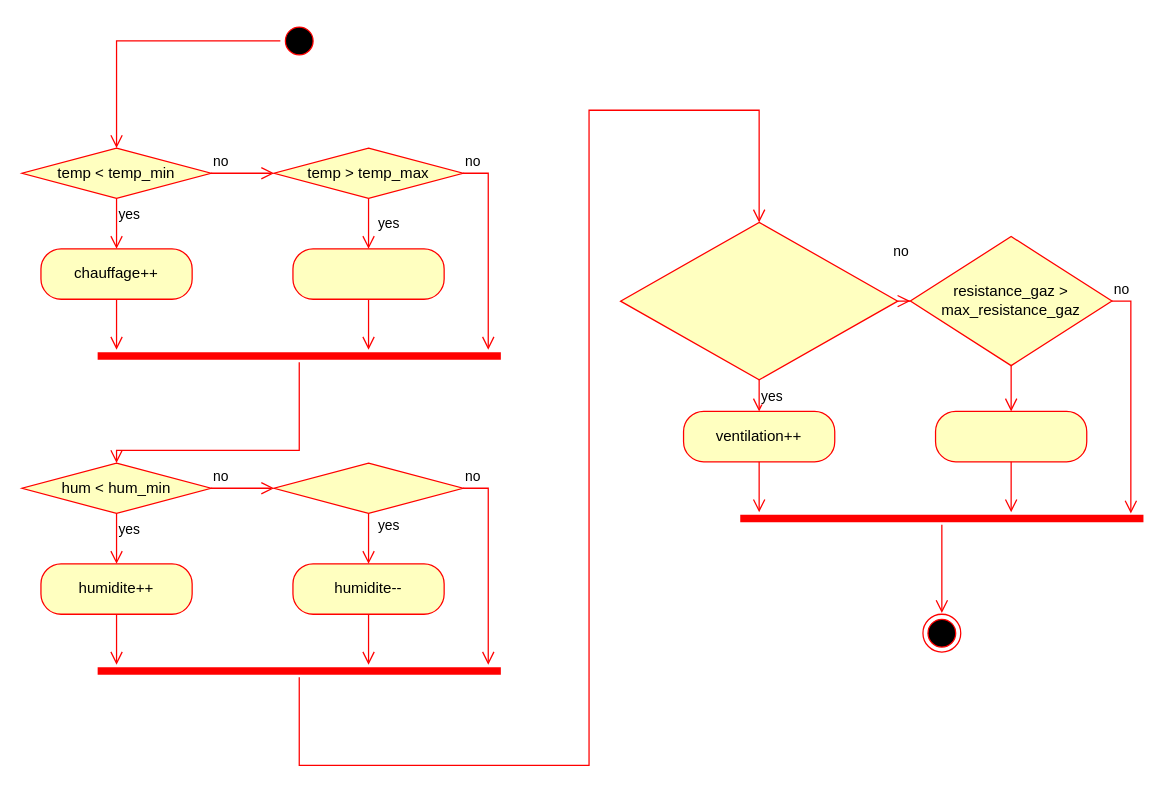
The diagram is 1169 pixels wide and 800 high, and some of its shapes have lost their labels. Each missing label, with the box of its shape:
Chauffage--: (292, 248, 444, 299)
hum > hum_max: (273, 462, 463, 513)
resistance_gaz < min_resistance_gaz OR IAQ > max_IAQ: (619, 221, 898, 380)
ventilation--: (934, 410, 1087, 462)
